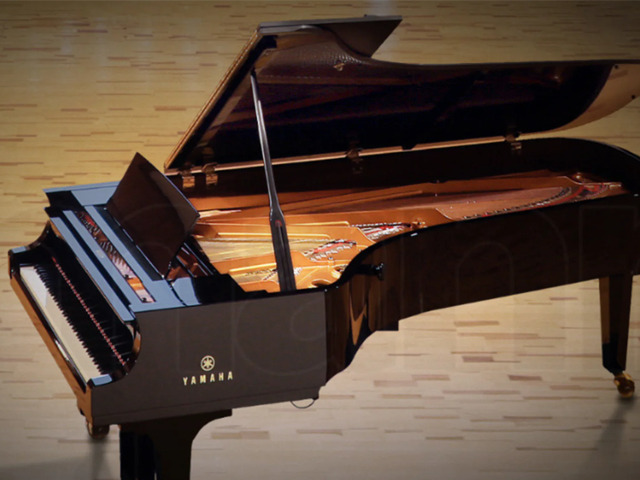Piano: (0, 0, 640, 478)
